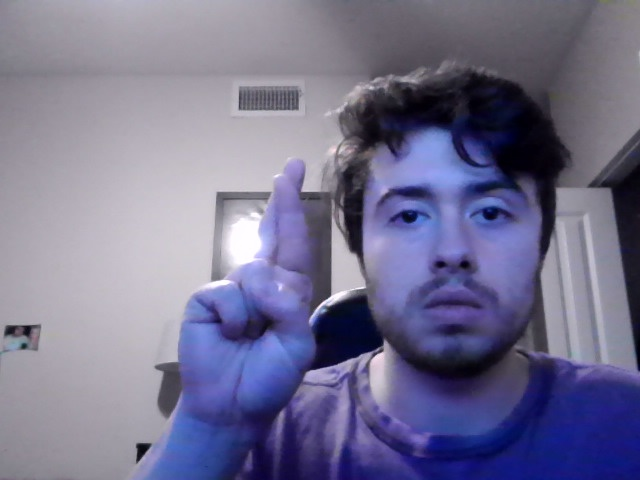r: (176, 156, 317, 460)
